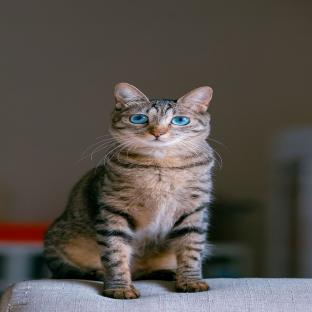Animal: (45, 83, 216, 299)
